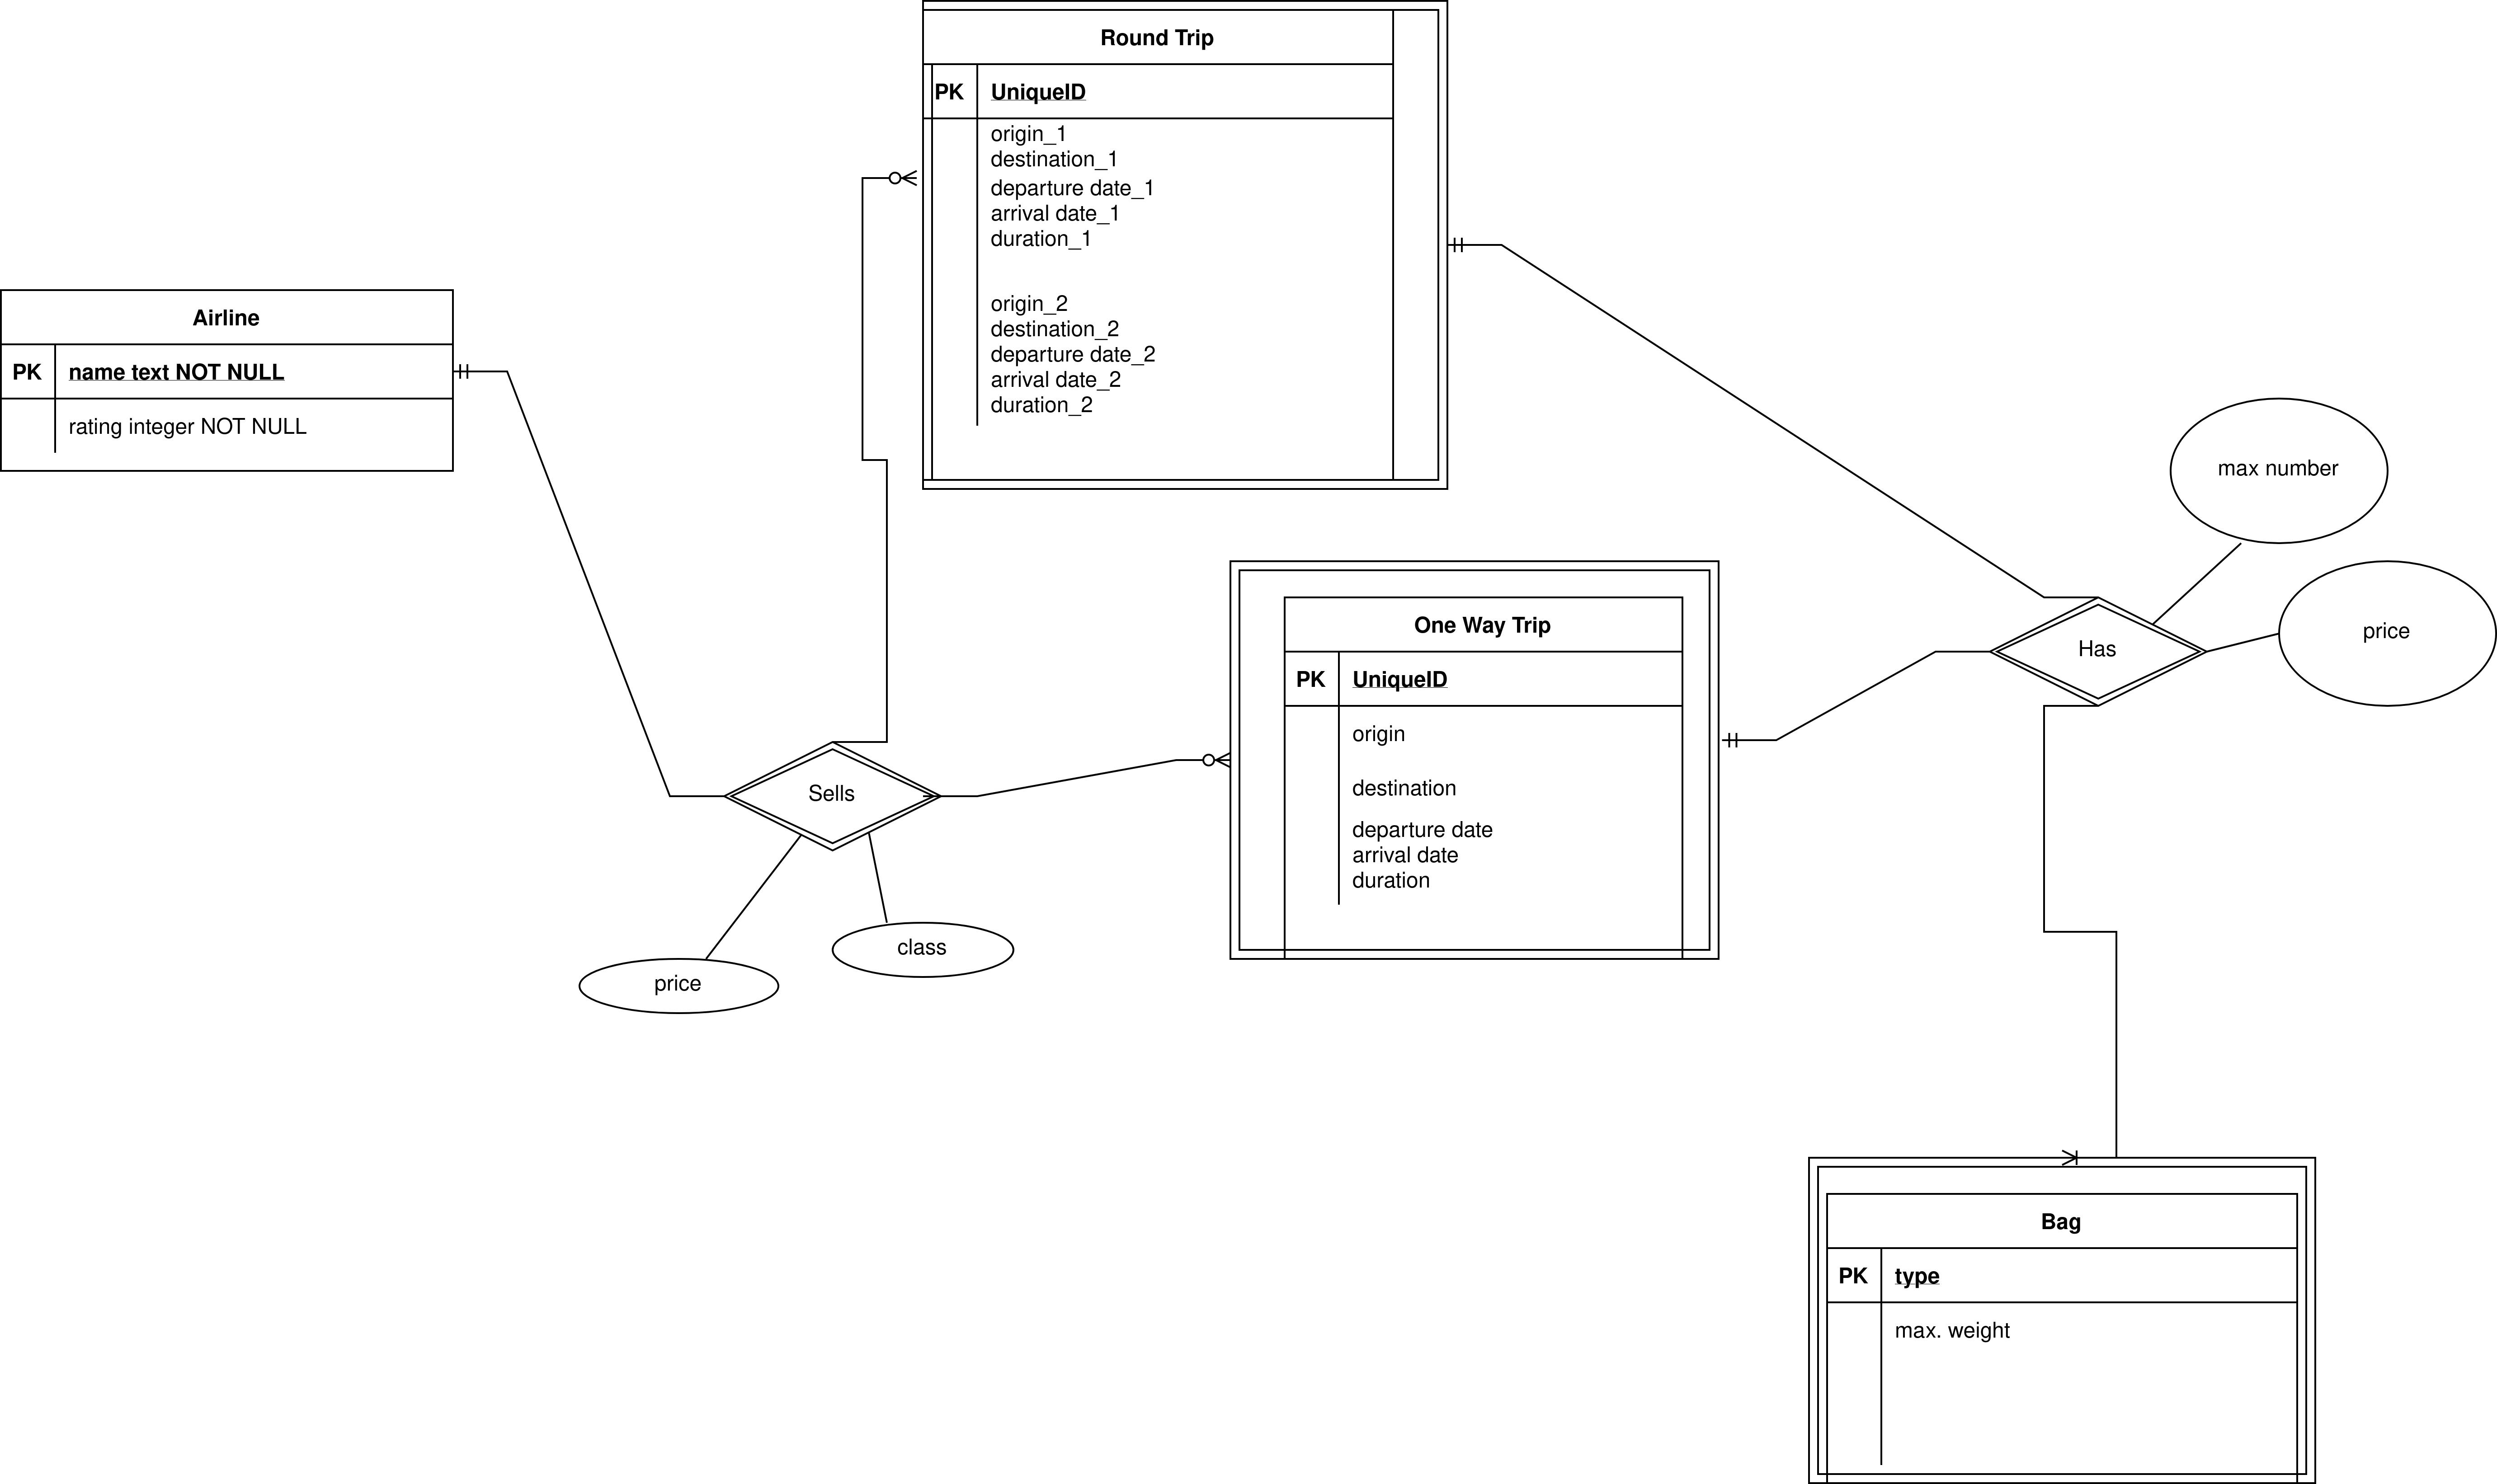attribute: (2172, 396, 2389, 546), (2276, 564, 2495, 712), (827, 922, 1014, 980), (574, 963, 779, 1016)
entity: (0, 284, 456, 481)
weakentity: (915, 0, 1453, 496), (1225, 553, 1723, 961), (1804, 1152, 2317, 1484)
weakrelationship: (1995, 595, 2207, 708), (717, 746, 940, 848)
